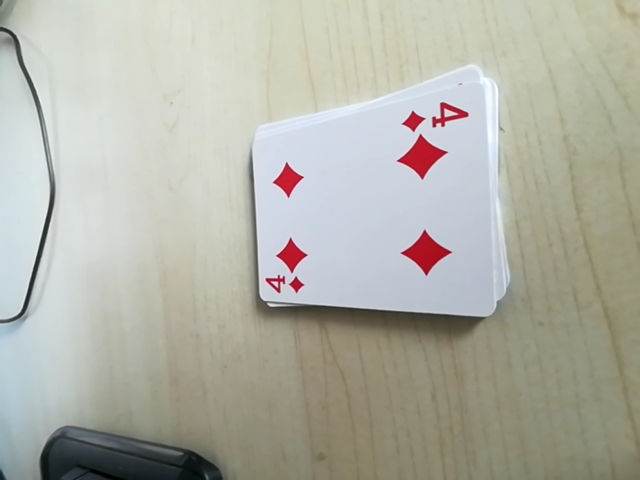fk 4: (401, 93, 475, 136), (257, 266, 308, 300)
